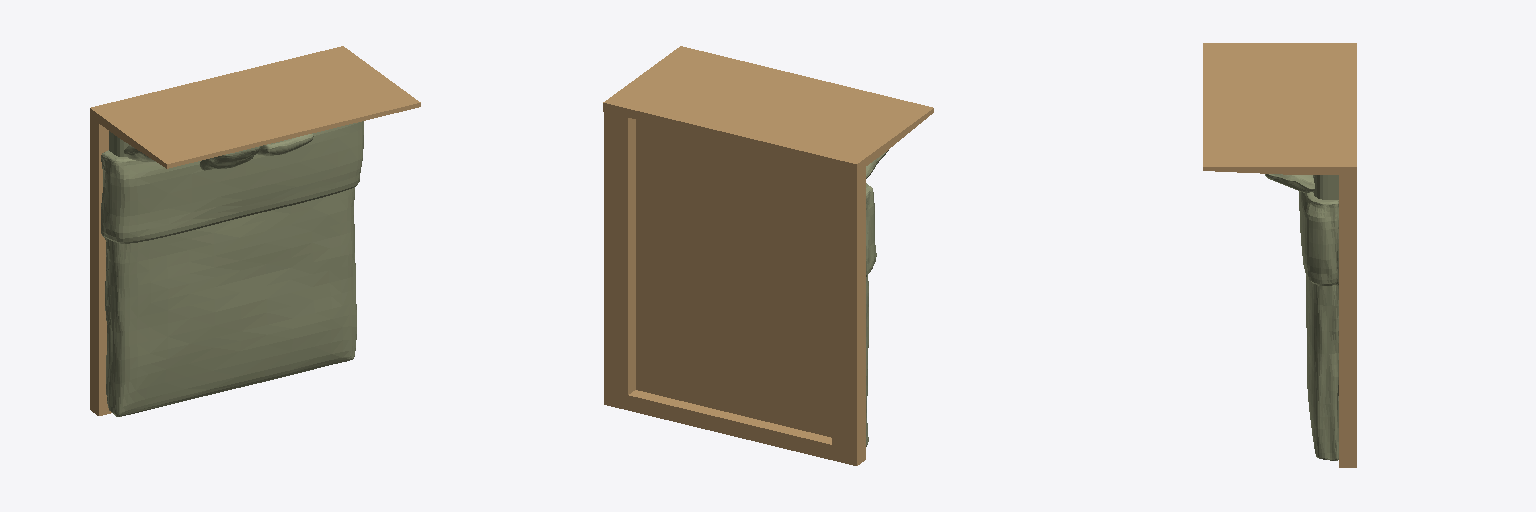
Rendered from bed.obj.
3 views of the same model, side by side, from view 1: azimuth 30°, elevation 25°; view 2: azimuth 150°, elevation 25°; view 3: azimuth 270°, elevation 25° (orthographic).
Visible parts, largest first — view 1: Box11712, Box11710, Box11705, Box11703, Box11702; view 2: Box11711, Box11710, Box11705, Box11704, Box11709, Box11712; view 3: Box11710, Box11712, Box11704, Box11706, Box11708.
Part boxes in pixels (x1,y1,x2,y2): Box11712: (101, 121, 363, 416); Box11710: (90, 46, 420, 168); Box11705: (90, 117, 111, 415); Box11703: (200, 146, 260, 170); Box11702: (257, 134, 313, 155); Box11711: (636, 120, 831, 437); Box11710: (603, 46, 933, 172); Box11705: (832, 167, 865, 465); Box11704: (604, 112, 635, 409); Box11709: (628, 390, 862, 463); Box11712: (866, 183, 876, 446); Box11710: (1203, 43, 1356, 174); Box11712: (1299, 191, 1338, 460); Box11704: (1339, 175, 1356, 467); Box11706: (1313, 175, 1338, 199); Box11708: (1265, 174, 1314, 192).
Size of the model in its own units: 203 by 229 by 107.